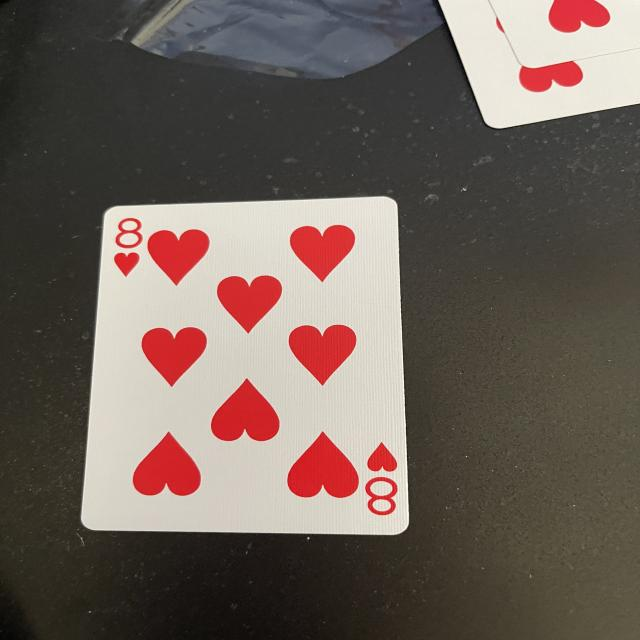8 of hearts: (81, 199, 408, 537)
